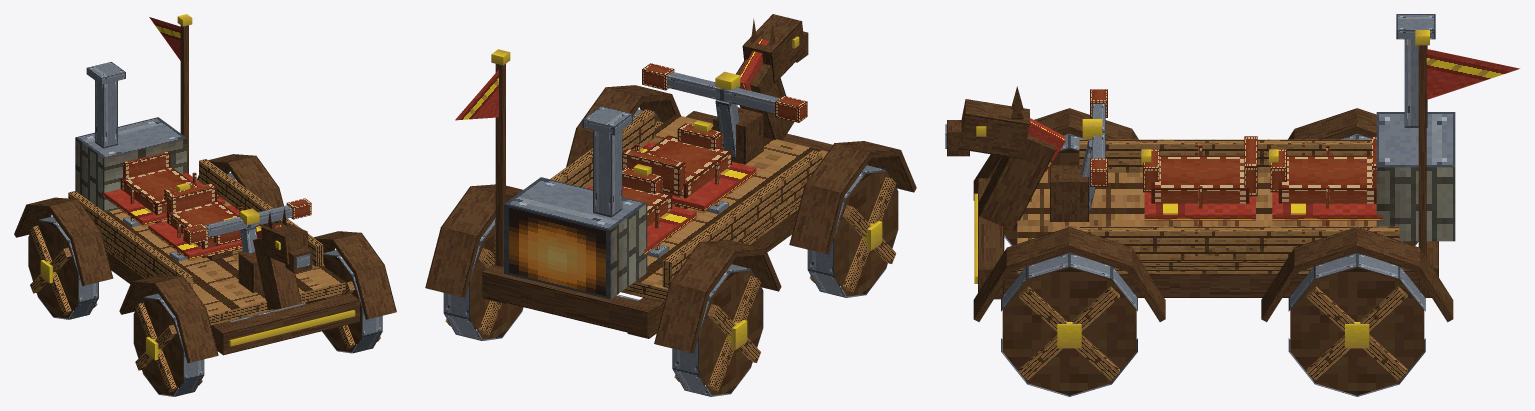
Rendered from cart.glb.
The picture shows the model from 3 angles, left to right: view 1: azimuth 30°, elevation 25°; view 2: azimuth 150°, elevation 25°; view 3: azimuth 270°, elevation 25°; orthographic projection. The views are drawn at different scales.
Visible parts, largest first — view 1: CartBody, WheelFR, WheelBR, Handlebar, WheelFL; view 2: CartBody, WheelBR, WheelFR, Handlebar, WheelBL; view 3: CartBody, WheelBL, WheelFL, Handlebar, WheelFR.
Part boxes in pixels (left/top/right/bottom): CartBody: left=14, top=14, right=396, bottom=362; WheelFR: left=133, top=293, right=204, bottom=396; WheelBR: left=28, top=216, right=98, bottom=319; Handlebar: left=183, top=198, right=311, bottom=253; WheelFL: left=322, top=250, right=382, bottom=353; CartBody: left=425, top=14, right=916, bottom=353; WheelBR: left=672, top=264, right=763, bottom=396; WheelFR: left=807, top=165, right=898, bottom=297; Handlebar: left=642, top=63, right=807, bottom=158; WheelBL: left=443, top=218, right=523, bottom=340; CartBody: left=945, top=14, right=1519, bottom=322; WheelBL: left=1288, top=253, right=1425, bottom=396; WheelFL: left=1001, top=253, right=1137, bottom=396; Handlebar: left=1081, top=89, right=1107, bottom=212; WheelFR: left=1004, top=134, right=1086, bottom=245.
Bounding box in the file's own units: 1.04 × 1.13 × 1.76.
1 material, 1 textured.
